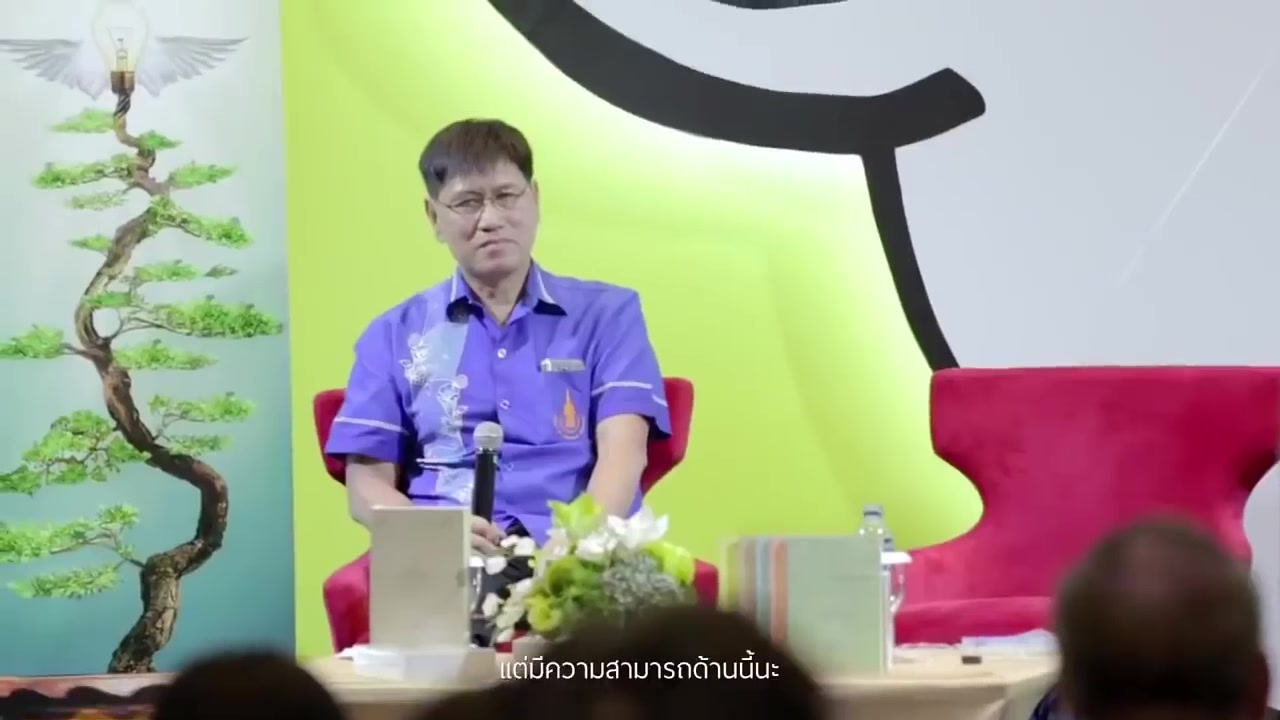text-label: (497, 647, 782, 684)
